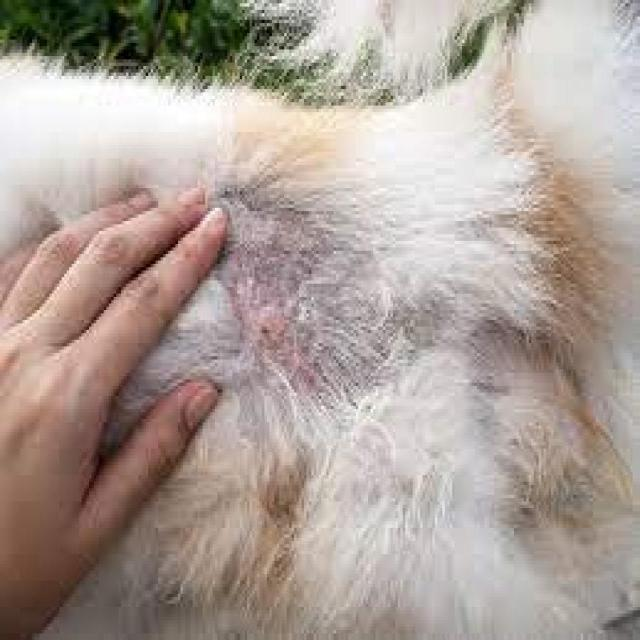di ung bo chet: (193, 162, 612, 609)
